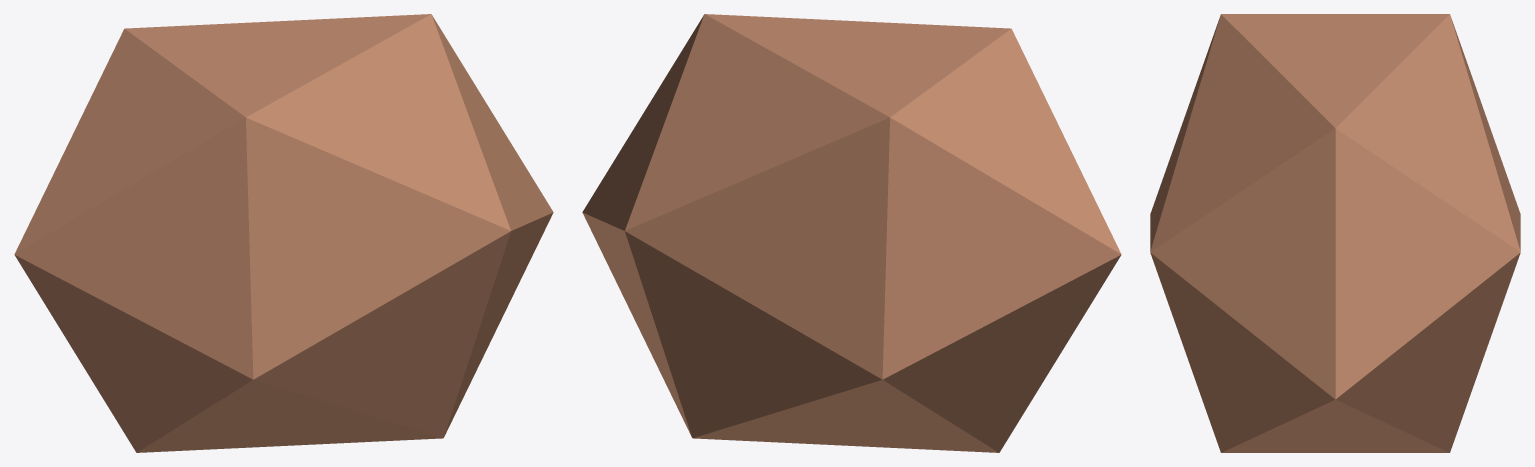
The model's file is Coconut_01.fbx.
The picture shows the model from 3 angles, left to right: view 1: azimuth 30°, elevation 25°; view 2: azimuth 150°, elevation 25°; view 3: azimuth 270°, elevation 25°; orthographic projection. The views are drawn at different scales.
Visible parts, largest first — view 1: Coconut_01; view 2: Coconut_01; view 3: Coconut_01.
Boxes of the visible parts, <box> form: Coconut_01: <box>14,14,553,452</box>; Coconut_01: <box>582,14,1121,452</box>; Coconut_01: <box>1150,14,1520,452</box>.
Bounding box in the file's own units: 44.47 × 29.09 × 28.07.
